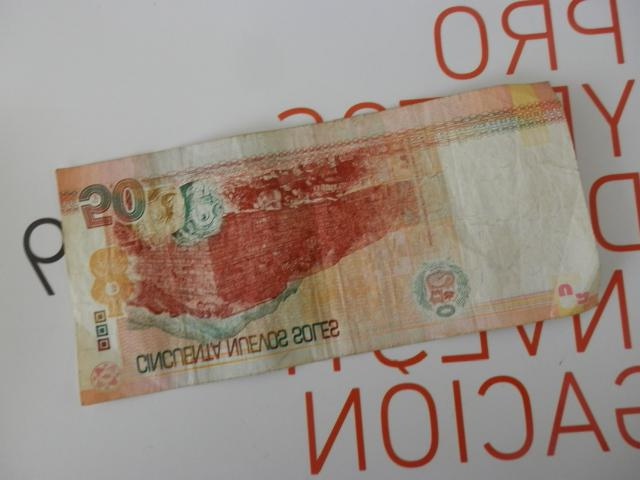B50: (57, 81, 600, 405)
